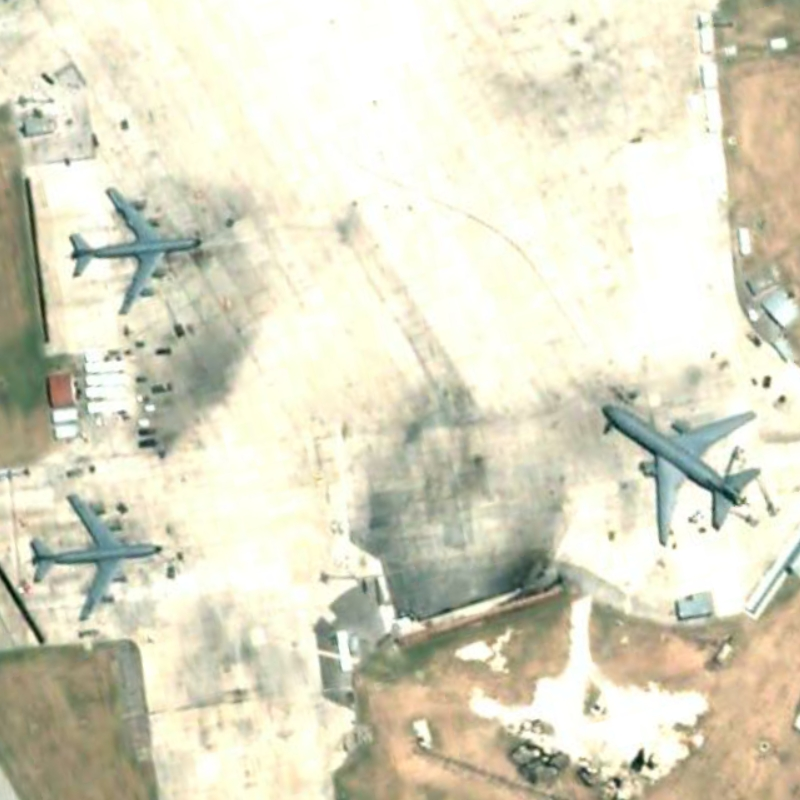A14: (24, 482, 171, 628), (65, 180, 210, 321)
A18: (592, 392, 768, 551)
